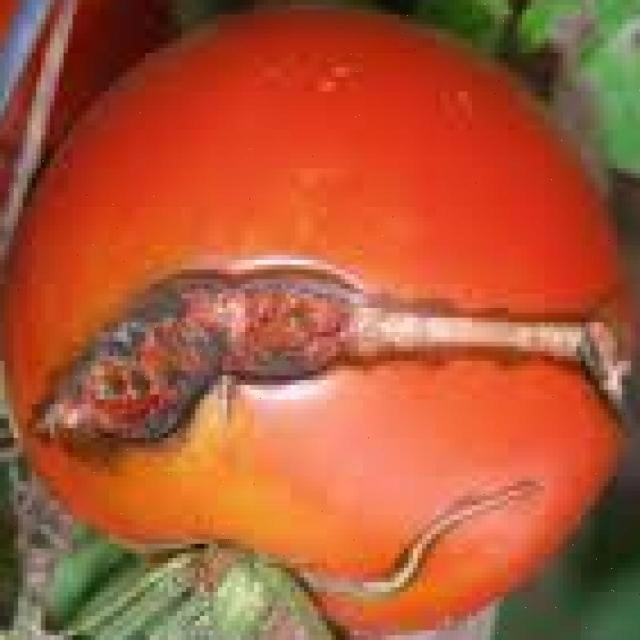Cracking Fruit: (191, 94, 414, 364)
